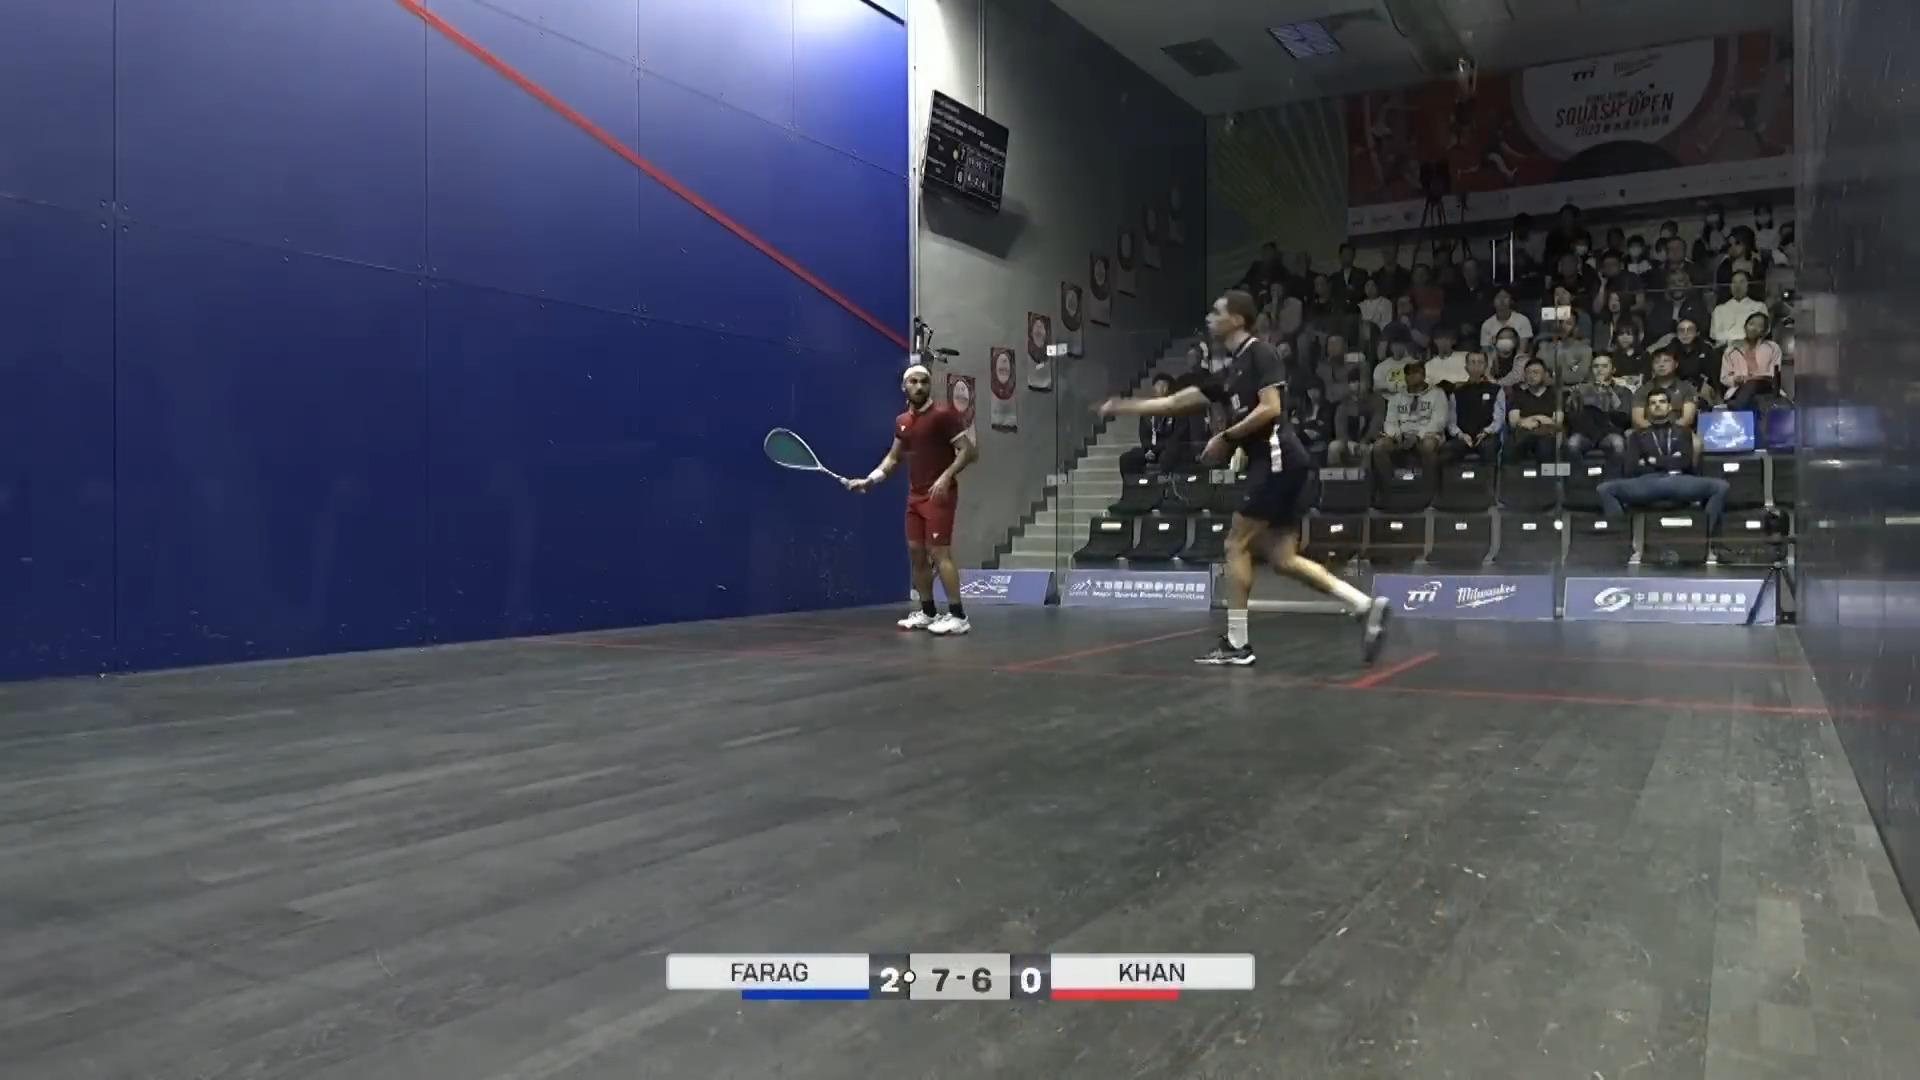Racket: (749, 418, 856, 489)
